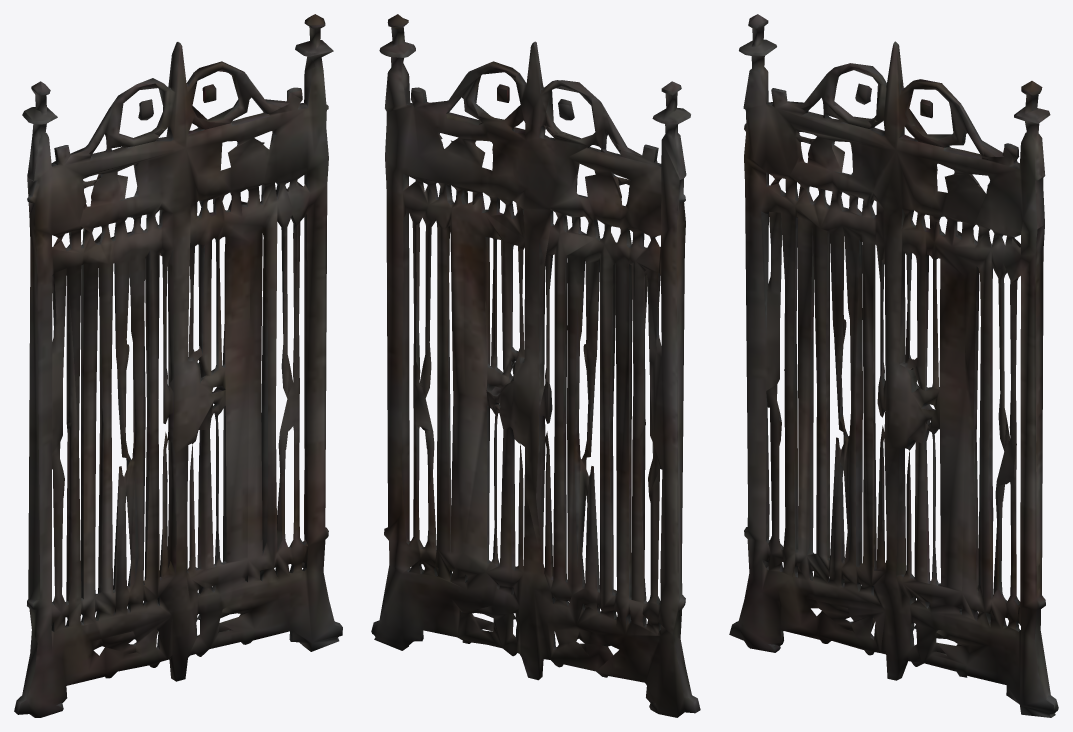
Rendered from worn-iron-iron-gate-v002.glb.
3 renders of one model, left to right at view 1: azimuth 30°, elevation 25°; view 2: azimuth 150°, elevation 25°; view 3: azimuth 330°, elevation 25°, orthographic.
Parts seen in each view (by area): view 1: worn-iron-iron-gate; view 2: worn-iron-iron-gate; view 3: worn-iron-iron-gate.
Part boxes in pixels (x1,y1,x2,y2): worn-iron-iron-gate: (14, 14, 342, 717); worn-iron-iron-gate: (371, 14, 700, 717); worn-iron-iron-gate: (729, 14, 1058, 717).
Size of the model in its own units: 1.53 by 2.88 by 0.1508.
1 material, 1 textured.
